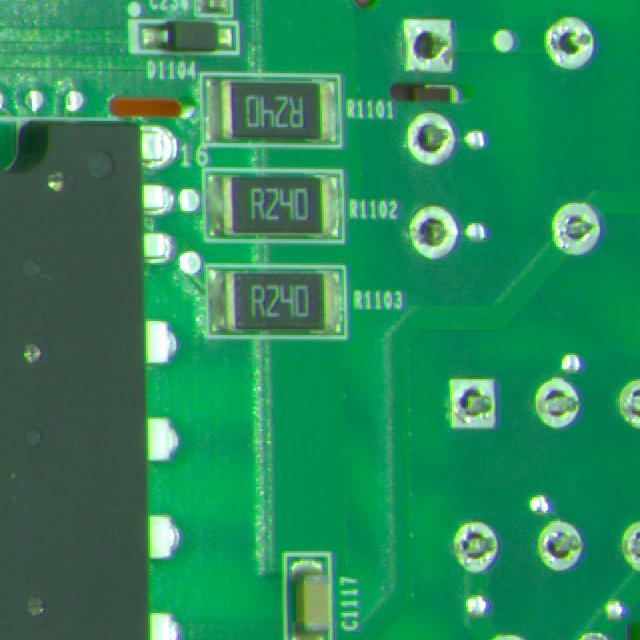oppostie_direction: (545, 17, 595, 69), (407, 113, 455, 165), (405, 19, 451, 72), (410, 208, 457, 259), (554, 203, 601, 254), (539, 520, 584, 571), (535, 378, 580, 428), (454, 522, 497, 572), (452, 379, 495, 428), (619, 380, 640, 428), (622, 521, 640, 571)
